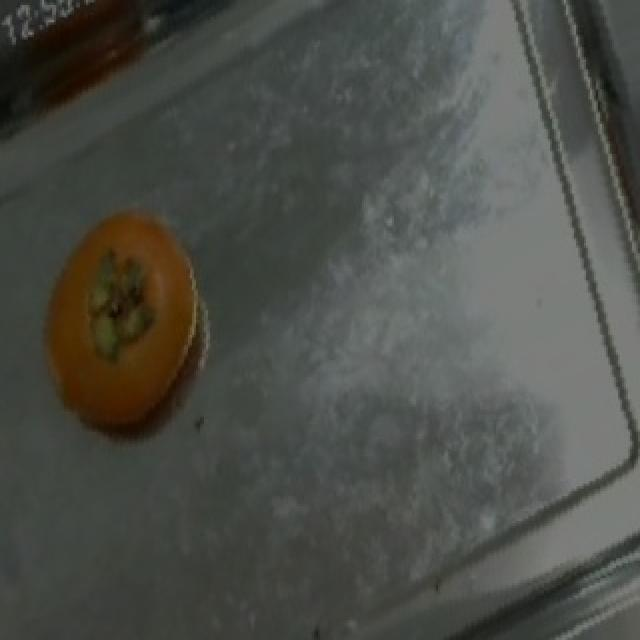Fruit: (12, 186, 220, 449)
